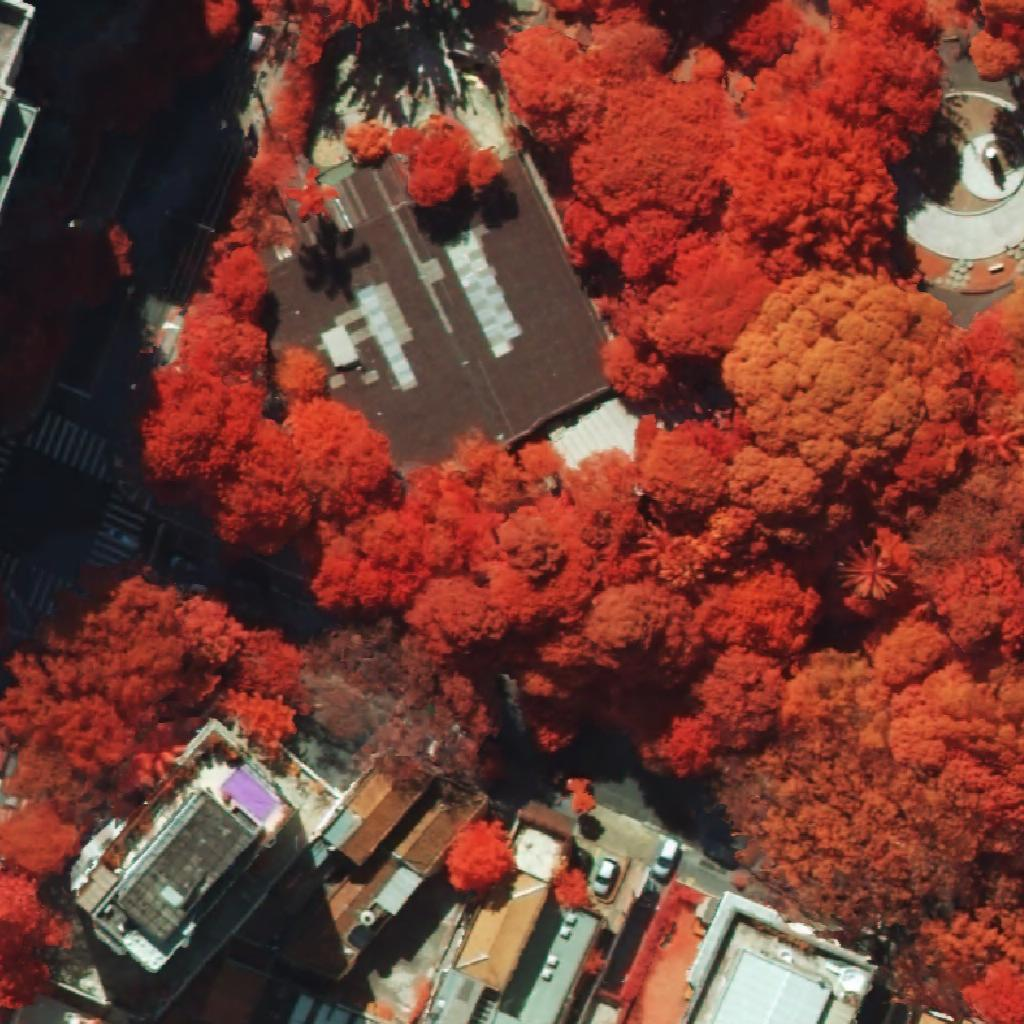pool: (221, 768, 280, 823)
